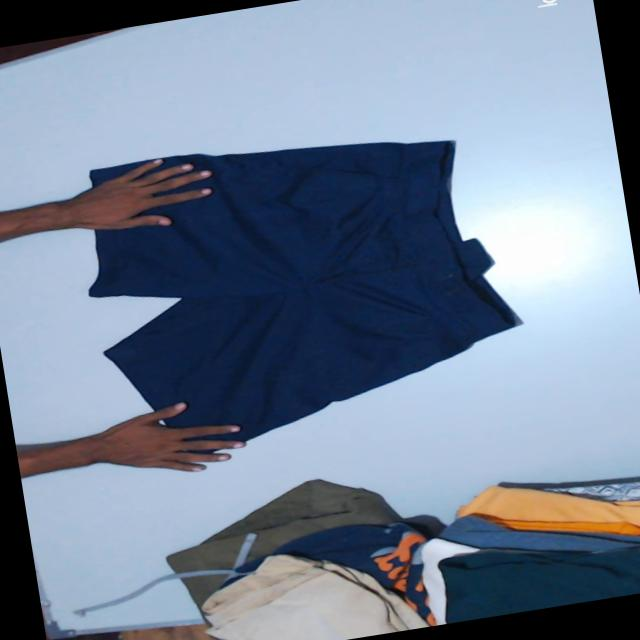new-garment: (89, 141, 515, 439)
